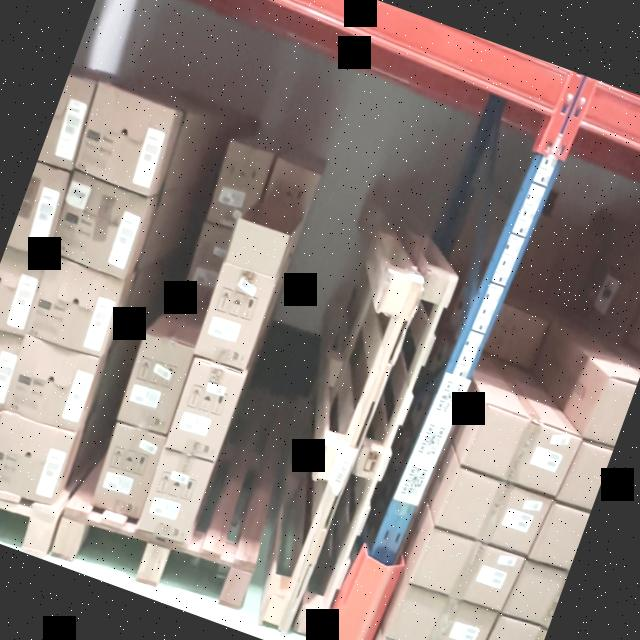box: (74, 84, 173, 195), (468, 406, 584, 500), (54, 168, 153, 276), (436, 469, 557, 556), (161, 350, 252, 460), (415, 525, 527, 614), (27, 257, 126, 357), (195, 263, 277, 372), (5, 339, 98, 433), (114, 336, 194, 438), (0, 415, 82, 506), (134, 452, 212, 544), (90, 431, 166, 521), (385, 588, 499, 640)
